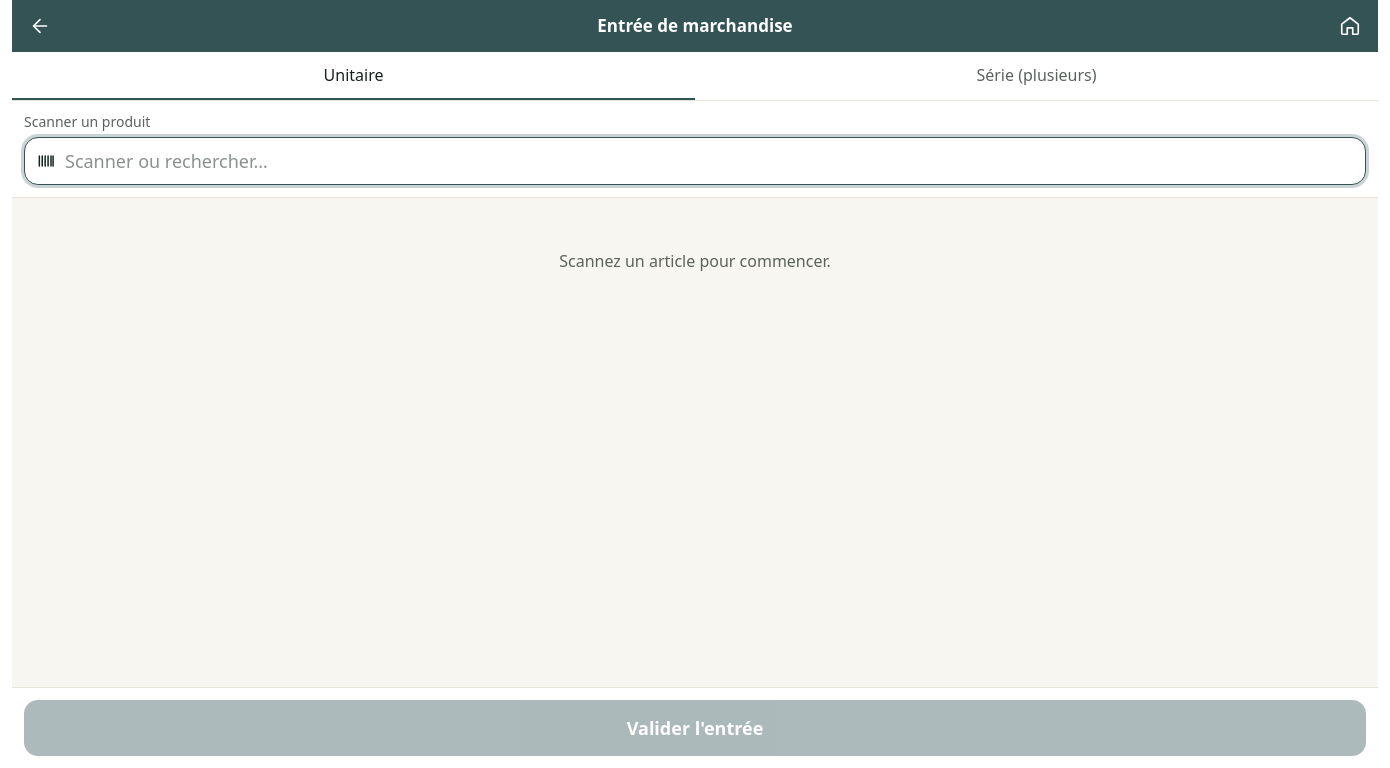
Test: entrée de marchandise — la valeur du champ fait foi › retient le contenu du champ, pas les frappes résiduelles
Click the button "Série (plusieurs)" at (1036, 76), box [695,52,1378,100]
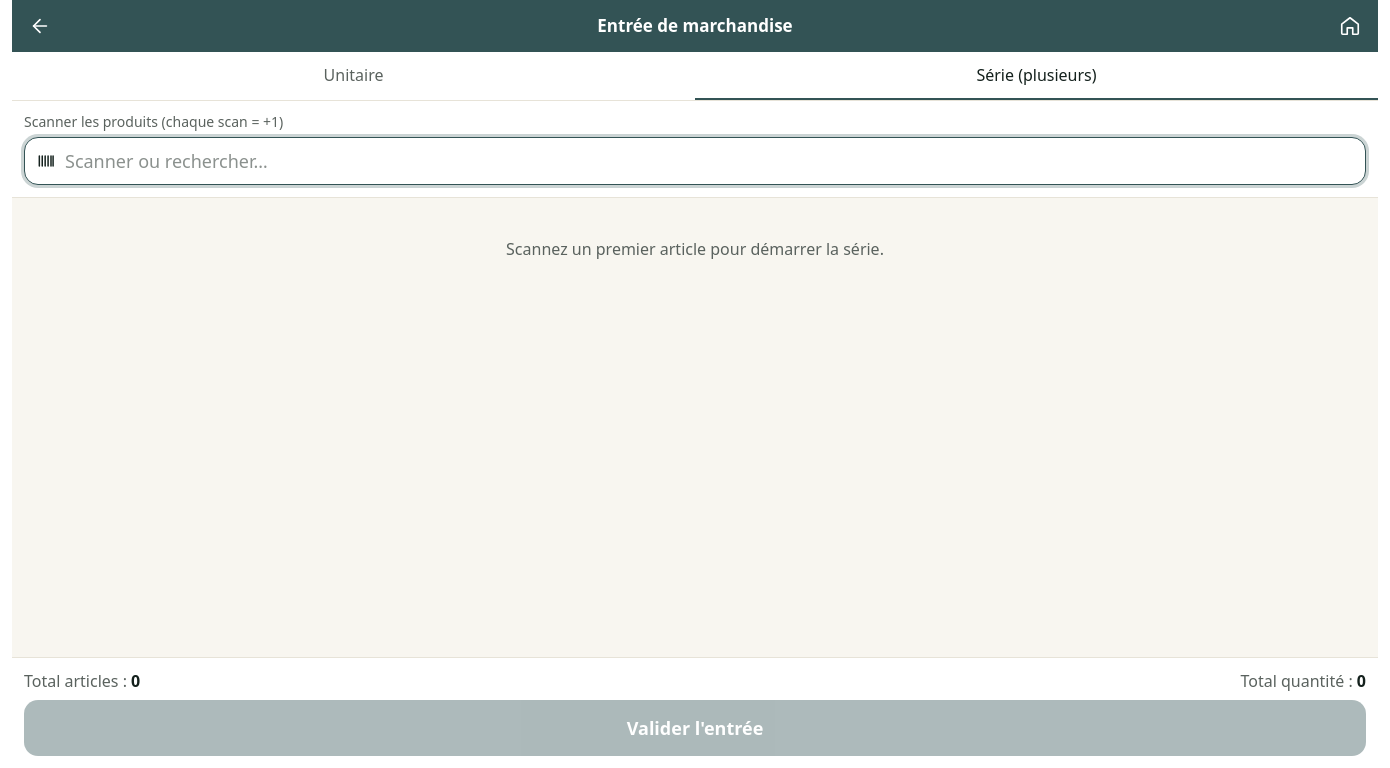
Type "3401579811002" into the field with placeholder "Scanner ou rechercher…" at (695, 161), box [24,137,1366,185]
Wait 400 ms
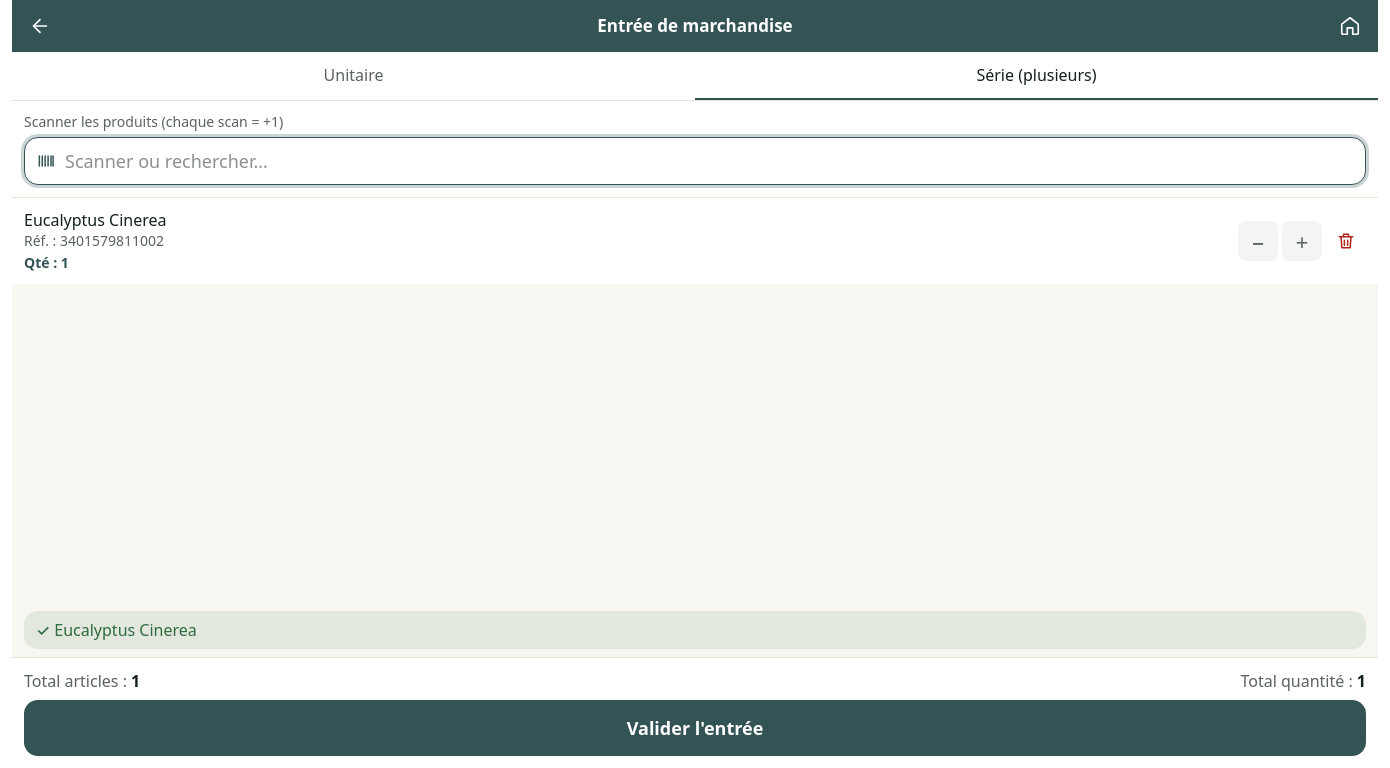
Expected: the list item "Eucalyptus Cinerea Réf. : 3401579811002 Qté : 1 − +" is shown, [12,198,1378,284]
